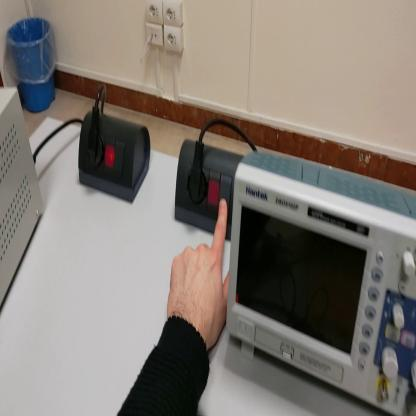hand: (167, 200, 232, 343)
oscilloscope: (227, 151, 416, 415)
power supply: (1, 85, 45, 318)
socket: (79, 107, 153, 206), (174, 136, 243, 238)
